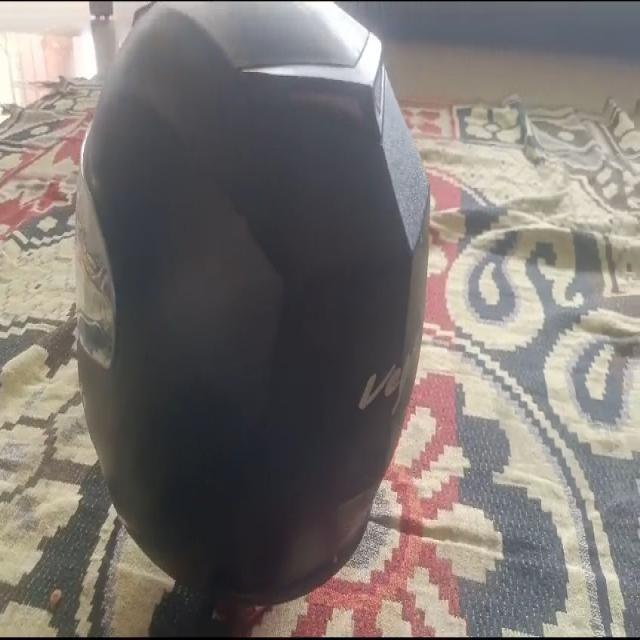Helmet: (78, 4, 428, 603)
